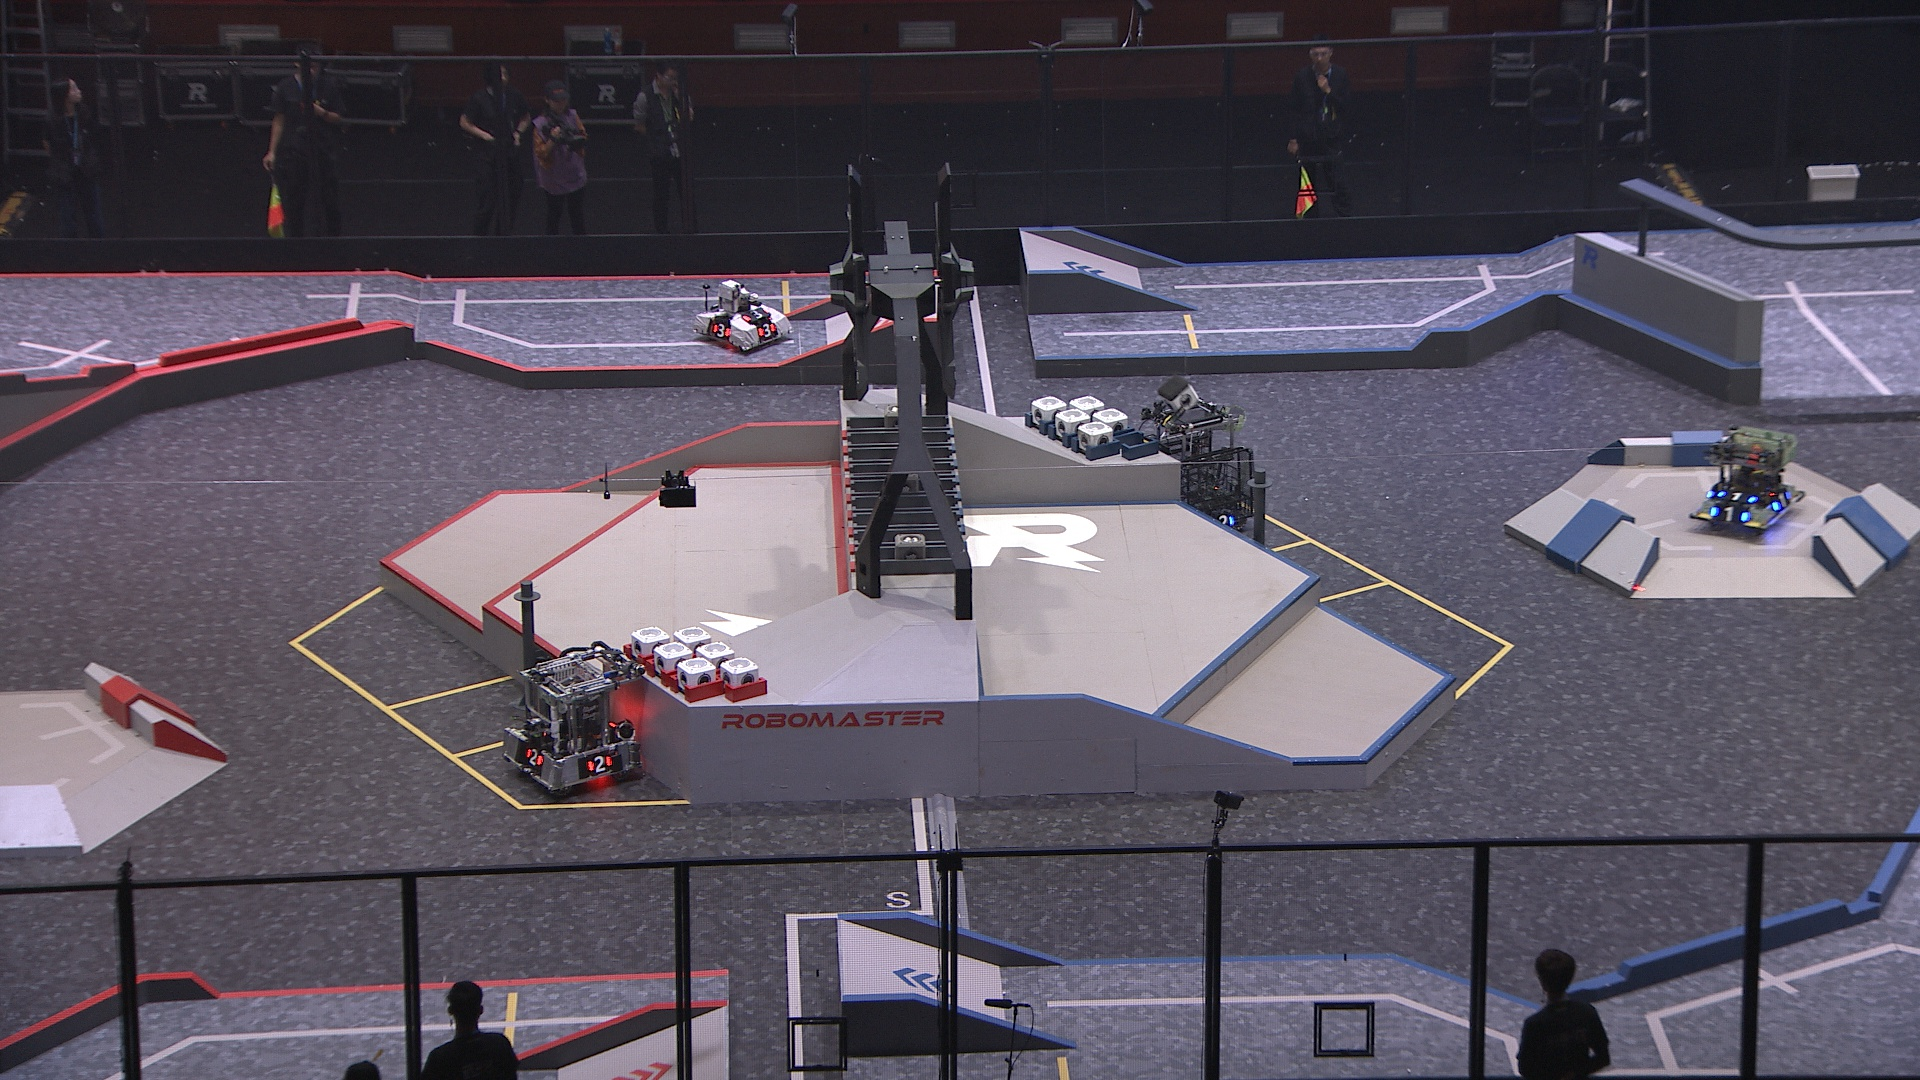armor: (1708, 504, 1751, 524), (1714, 488, 1756, 504), (585, 756, 615, 775), (1770, 489, 1793, 513), (522, 746, 543, 767), (711, 320, 731, 339), (1215, 513, 1236, 527), (744, 309, 766, 322), (757, 323, 775, 338)
car: (498, 640, 646, 802), (1138, 401, 1257, 541), (1688, 425, 1807, 535), (694, 276, 793, 352)
